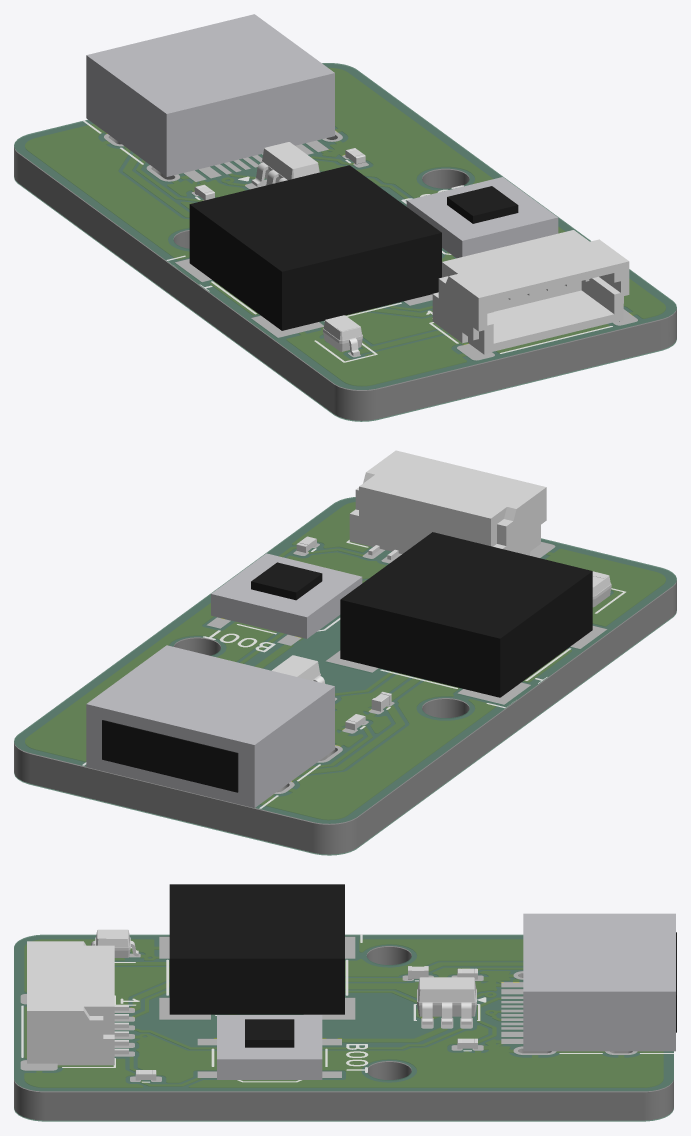
File: service.glb
The picture shows the model from 3 angles, top to bottom: view 1: azimuth 30°, elevation 25°; view 2: azimuth 150°, elevation 25°; view 3: azimuth 270°, elevation 25°; orthographic projection. The views are drawn at different scales.
Parts seen in each view (by area): view 1: body (×3), =>[0:1:1:15], =>[0:1:1:17], =>[0:1:1:10], J2, =>[0:1:1:11], U1, part0, D1, =>[0:1:1:13], =>[0:1:1:16]; view 2: body (×3), =>[0:1:1:15], =>[0:1:1:17], =>[0:1:1:10], J2, part0 (×2), =>[0:1:1:11], =>[0:1:1:13], =>[0:1:1:16], U1; view 3: body (×3), =>[0:1:1:15], =>[0:1:1:17], =>[0:1:1:10], J2, =>[0:1:1:11], U1, =>[0:1:1:13], part0, =>[0:1:1:16], D1.
Boxes of the visible parts, <box> form: body (×3): <box>86,14,558,330</box>; =>[0:1:1:15]: <box>14,63,676,389</box>; =>[0:1:1:17]: <box>14,64,676,420</box>; =>[0:1:1:10]: <box>25,68,665,385</box>; J2: <box>432,230,629,354</box>; =>[0:1:1:11]: <box>104,130,637,360</box>; U1: <box>251,142,319,186</box>; part0: <box>447,186,518,223</box>; D1: <box>323,315,362,355</box>; =>[0:1:1:13]: <box>82,120,612,362</box>; =>[0:1:1:16]: <box>14,177,676,421</box>; body (×3): <box>86,532,592,807</box>; =>[0:1:1:15]: <box>14,497,676,823</box>; =>[0:1:1:17]: <box>14,498,676,854</box>; =>[0:1:1:10]: <box>25,502,665,819</box>; J2: <box>349,450,546,559</box>; part0 (×2): <box>102,562,322,792</box>; =>[0:1:1:11]: <box>206,542,607,794</box>; =>[0:1:1:13]: <box>82,540,625,808</box>; =>[0:1:1:16]: <box>14,610,676,855</box>; U1: <box>272,655,325,683</box>; body (×3): <box>169,884,675,1079</box>; =>[0:1:1:15]: <box>14,934,673,1091</box>; =>[0:1:1:17]: <box>14,936,673,1120</box>; =>[0:1:1:10]: <box>25,940,662,1087</box>; J2: <box>27,941,128,1065</box>; =>[0:1:1:11]: <box>20,937,637,1082</box>; U1: <box>417,977,476,1024</box>; =>[0:1:1:13]: <box>21,934,673,1082</box>; part0: <box>245,1019,294,1047</box>; =>[0:1:1:16]: <box>14,1108,673,1121</box>; D1: <box>90,929,138,957</box>.
Bounding box in the file's own units: 0.018 × 0.00487 × 0.0322.
